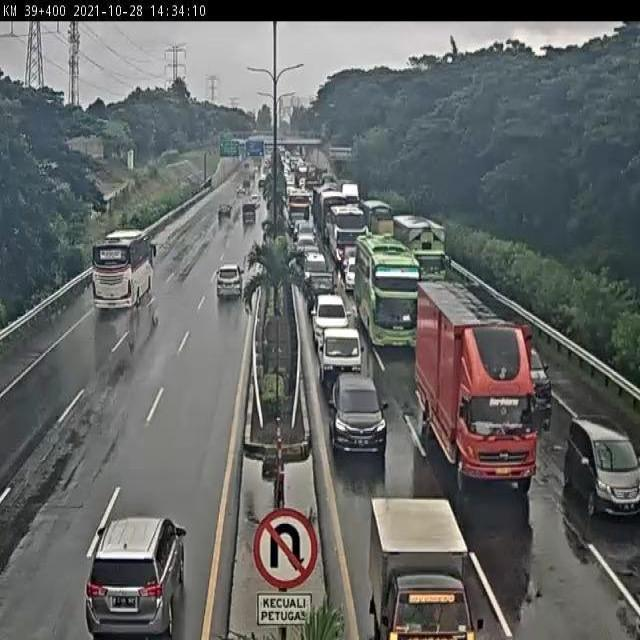car: (561, 424, 640, 515), (328, 371, 385, 449), (504, 337, 550, 411), (322, 328, 365, 380), (311, 297, 350, 336), (303, 269, 336, 304), (216, 264, 245, 300), (303, 251, 328, 271), (342, 252, 357, 285), (297, 234, 317, 258), (293, 219, 316, 239)
truck: (420, 287, 535, 476), (356, 241, 417, 347), (92, 234, 154, 310), (392, 216, 453, 292), (330, 208, 366, 265)
